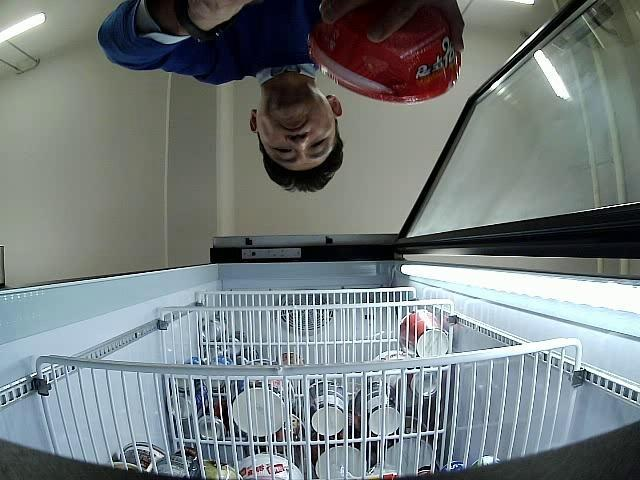10_wangTtukkeong: (308, 0, 461, 102)
